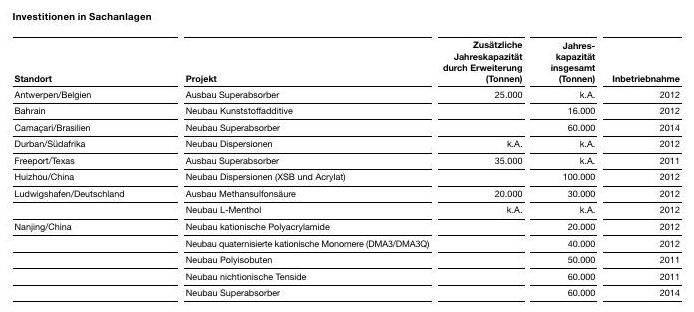table: (0, 0, 694, 312)
